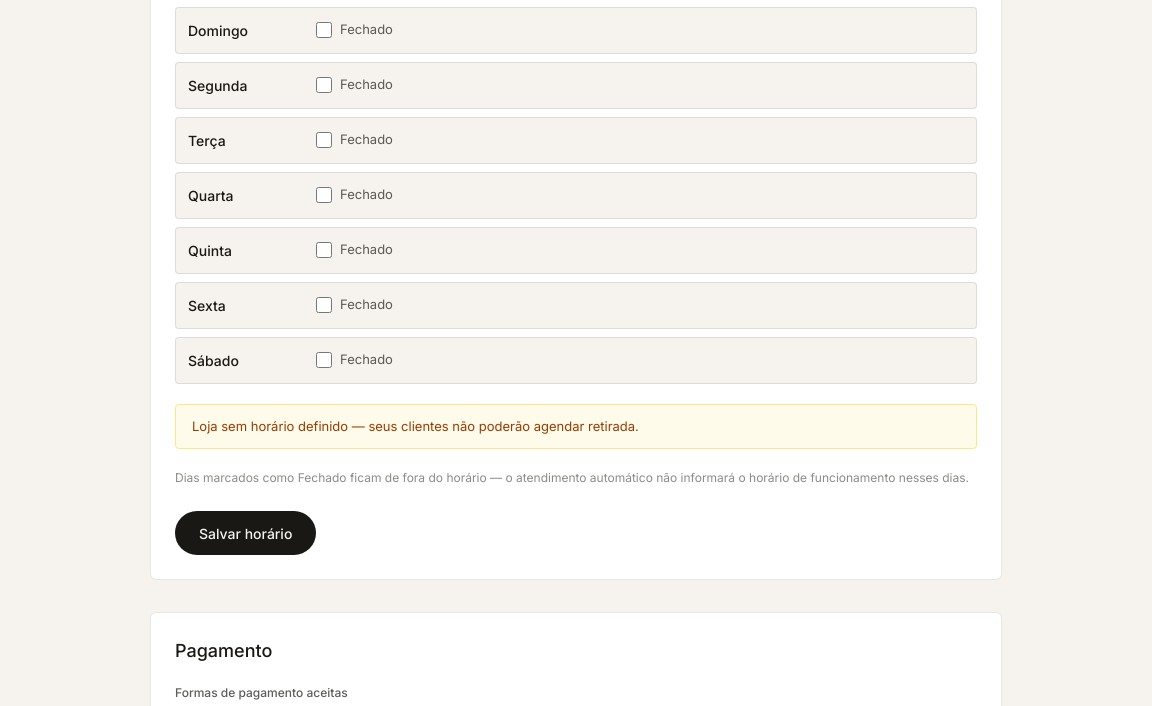
Test: ConfiguracoesManager › K3: validação open < close (janela degenerada/invertida) › dias: janela degenerada (02:11 até 02:11) também bloqueia
(page scrolled)
Click the checkbox named "aberto" at (324, 360), box x1=316 y1=352 x2=332 y2=368
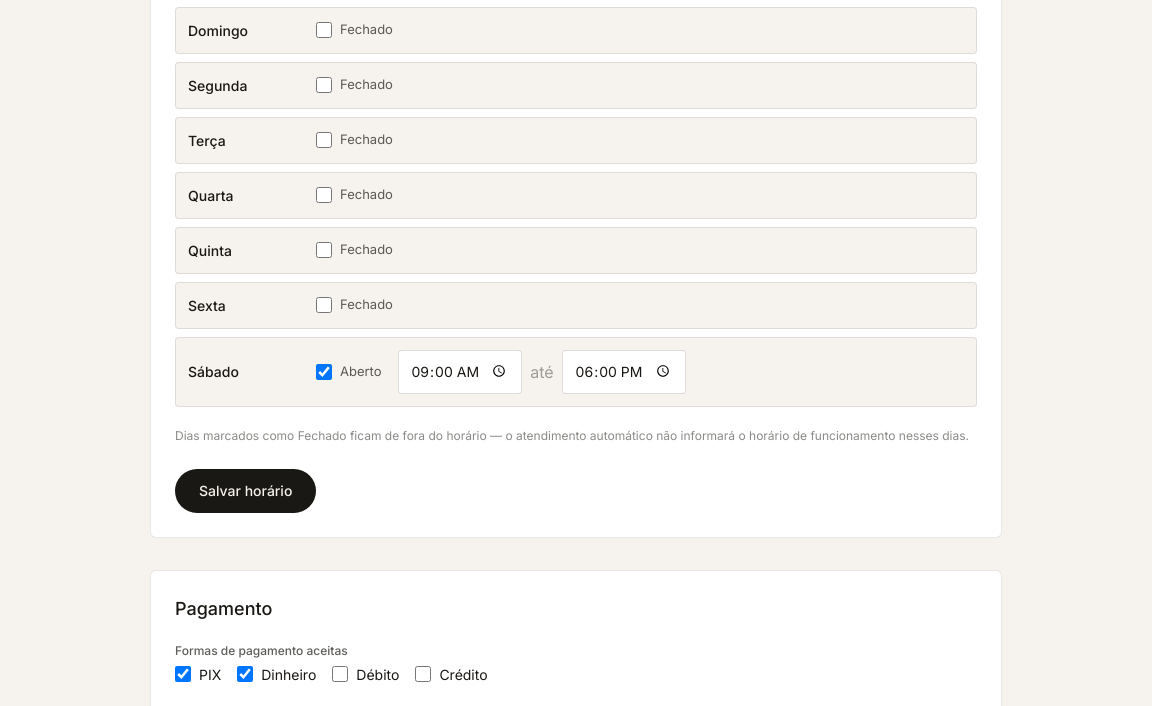
Replace the text in the time field named "abre" with "02:11" at (460, 372), box x1=398 y1=350 x2=522 y2=394
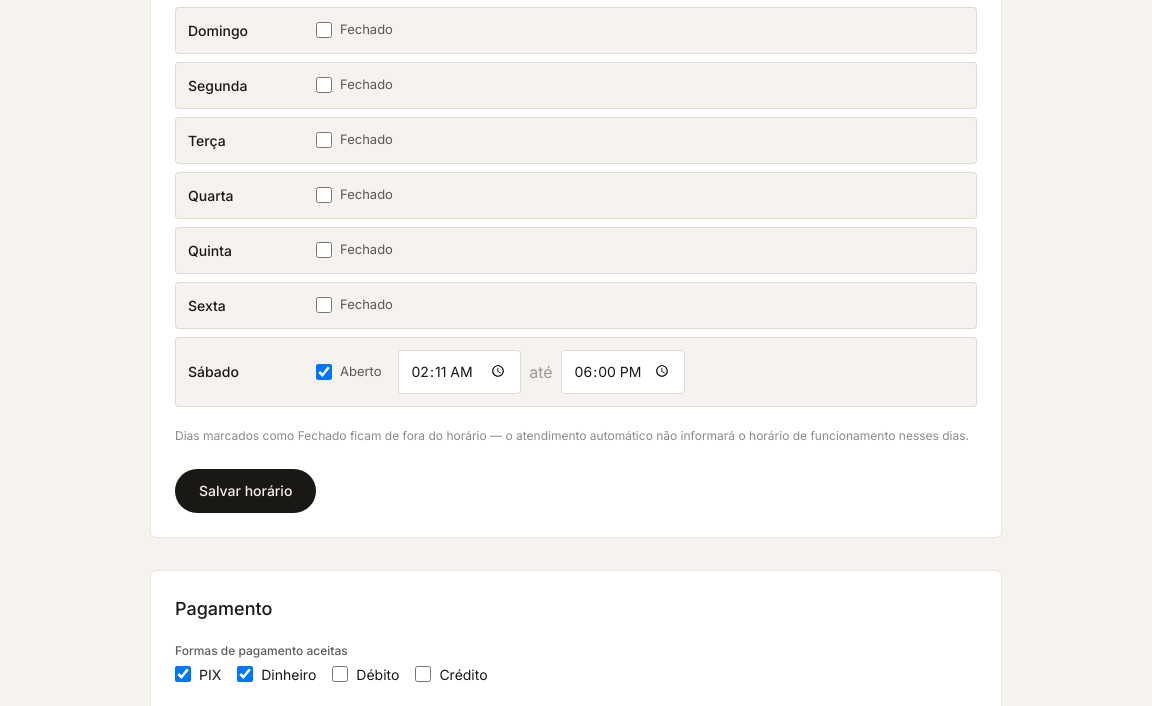
Replace the text in the time field named "fecha" with "02:11" at (623, 372), box x1=561 y1=350 x2=685 y2=394
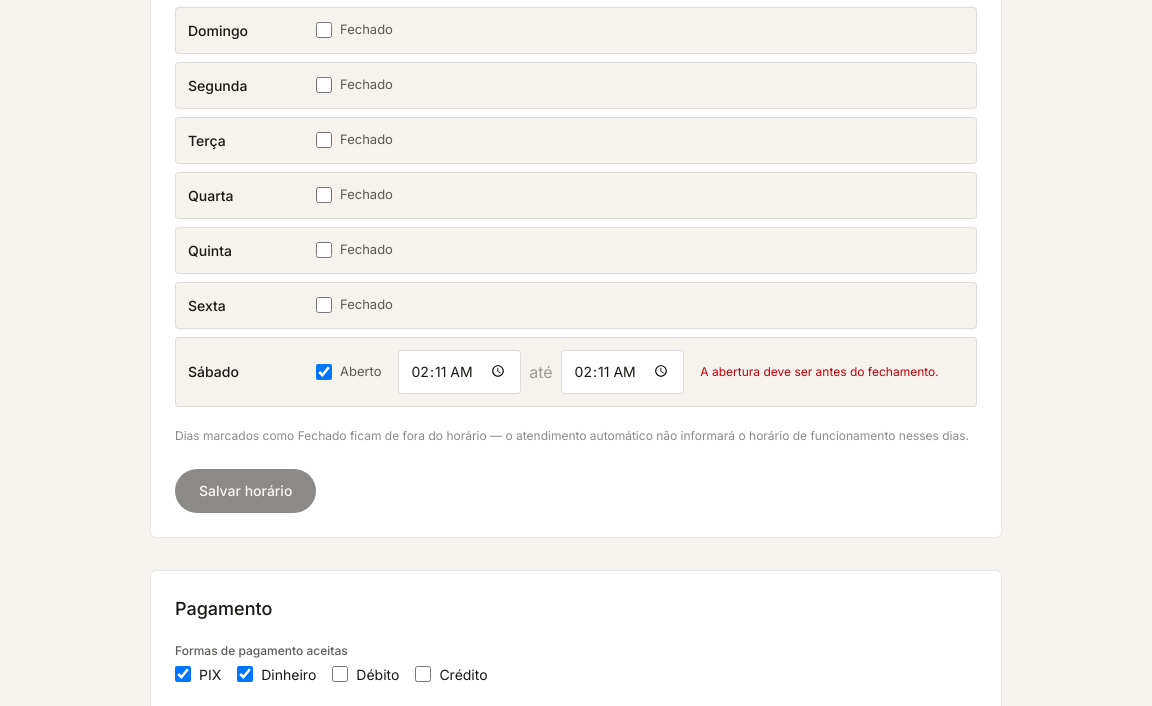
expect the text "A abertura deve ser antes do fechamento." is shown: met, box x1=700 y1=363 x2=964 y2=381
expect the button "Salvar horário" is disabled: met, box x1=175 y1=469 x2=316 y2=513
